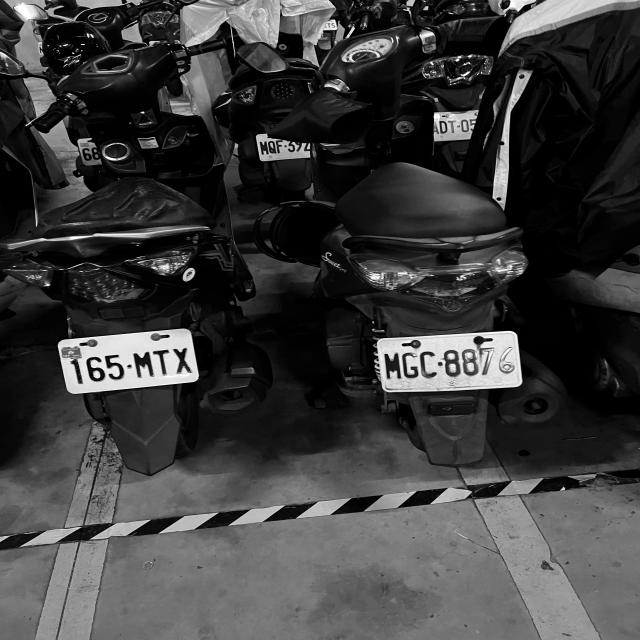-: (124, 363, 133, 369), (437, 361, 444, 367), (283, 145, 288, 148), (456, 125, 460, 128)
0: (460, 119, 470, 132)
1: (68, 358, 84, 386)
5: (105, 353, 125, 380)
6: (498, 346, 517, 374), (86, 356, 106, 382), (81, 148, 92, 162)
7: (478, 348, 496, 376)
8: (461, 348, 479, 376), (444, 349, 461, 377), (91, 147, 101, 161)
C: (418, 350, 437, 378)
D: (439, 120, 449, 134)
F: (276, 140, 283, 154)
G: (402, 352, 419, 378)
M: (134, 351, 153, 378), (383, 352, 402, 378), (259, 141, 269, 156)
Q: (268, 140, 276, 155)
S: (331, 23, 336, 29)
T: (152, 348, 170, 376), (448, 120, 457, 134), (327, 23, 331, 28)
X: (172, 347, 192, 375)
plate: (379, 333, 521, 391), (55, 336, 203, 389)
